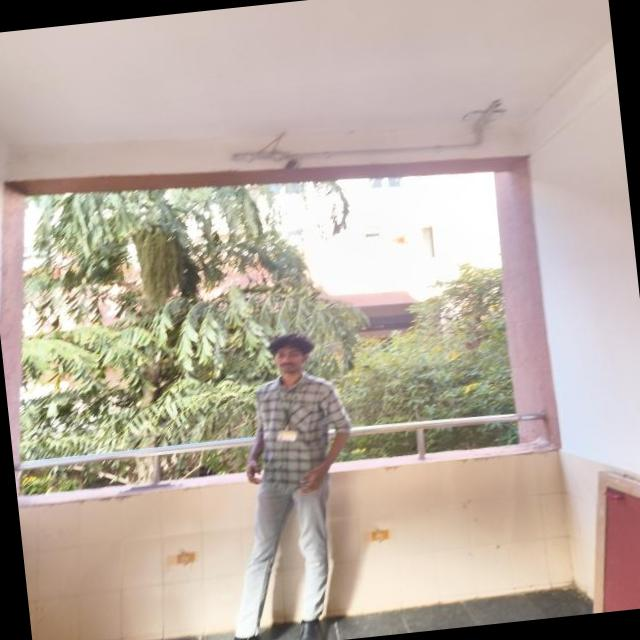id_card: (272, 386, 304, 448)
